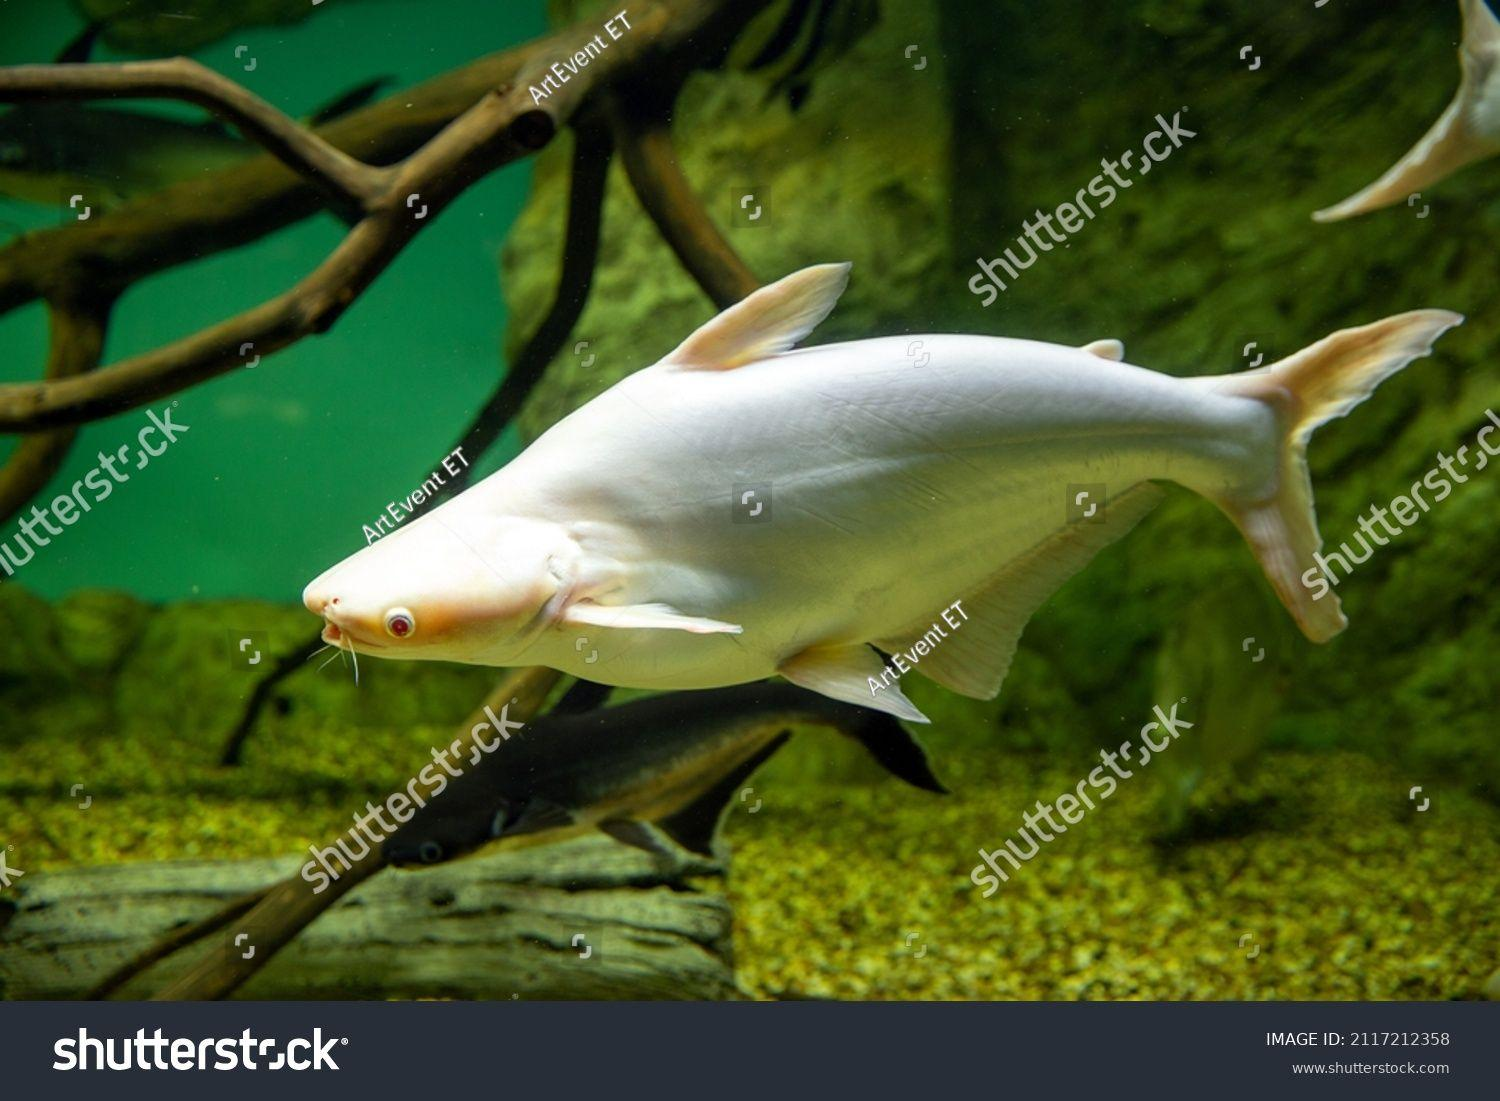Pangasius: (300, 257, 1467, 707)
